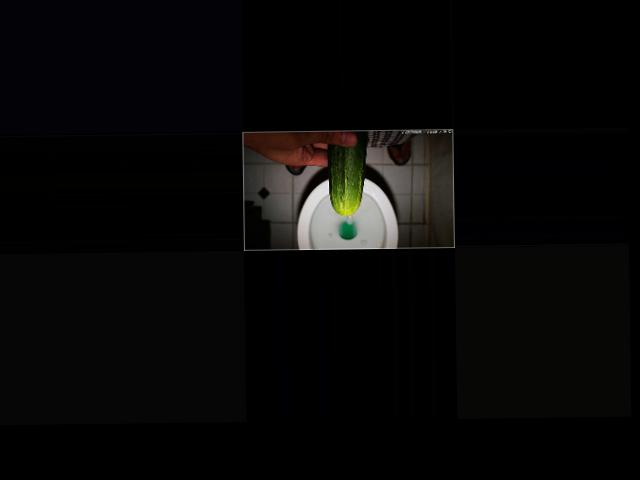cucumber: (328, 129, 369, 215)
